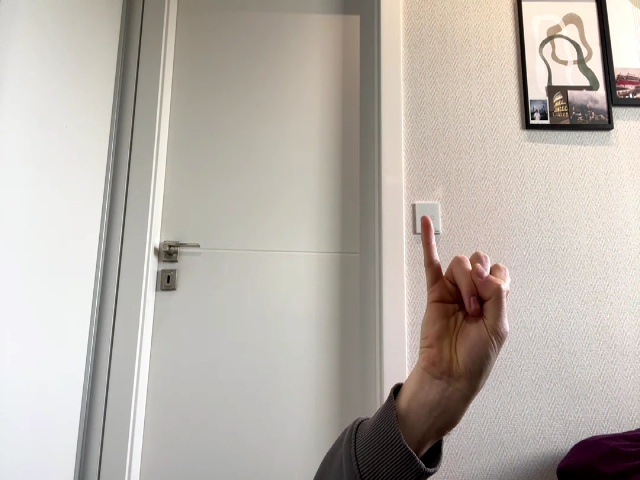I: (421, 215, 512, 390)
